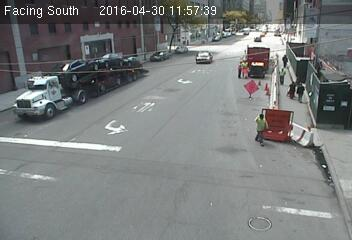neg: (305, 46, 324, 72), (78, 63, 95, 86), (117, 66, 133, 88), (53, 66, 69, 87), (20, 90, 34, 109), (274, 33, 287, 49), (59, 38, 71, 54), (151, 49, 161, 62), (137, 30, 146, 43), (99, 61, 107, 72)
pos: (293, 83, 309, 103), (286, 80, 301, 100), (276, 66, 291, 85), (240, 60, 254, 78), (281, 54, 292, 68)
